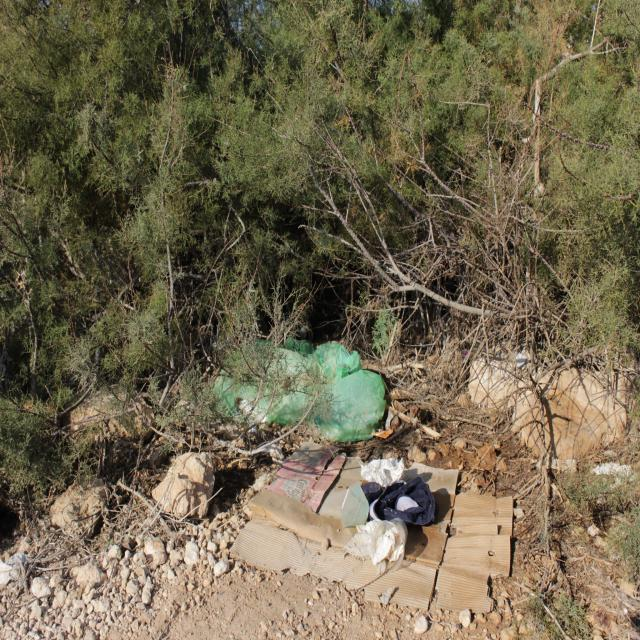Carton: (227, 439, 510, 612), (264, 440, 349, 515)
Cup: (372, 518, 407, 571)
Other litter: (338, 458, 440, 555)
Plastic bag - wrapper: (315, 345, 386, 438), (212, 376, 314, 425), (260, 339, 314, 394)
